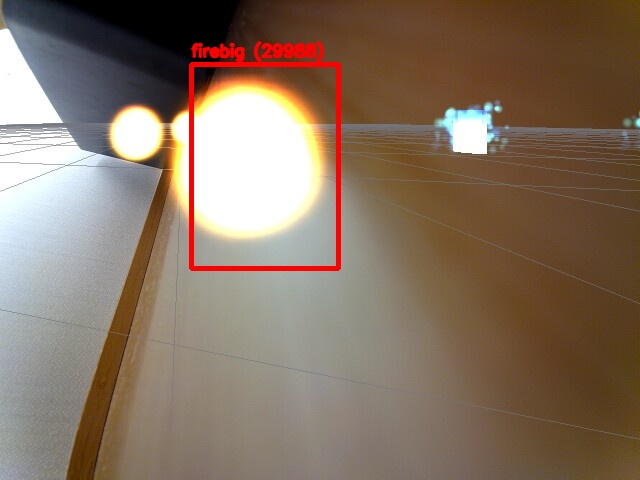firebig: (191, 64, 338, 268)
